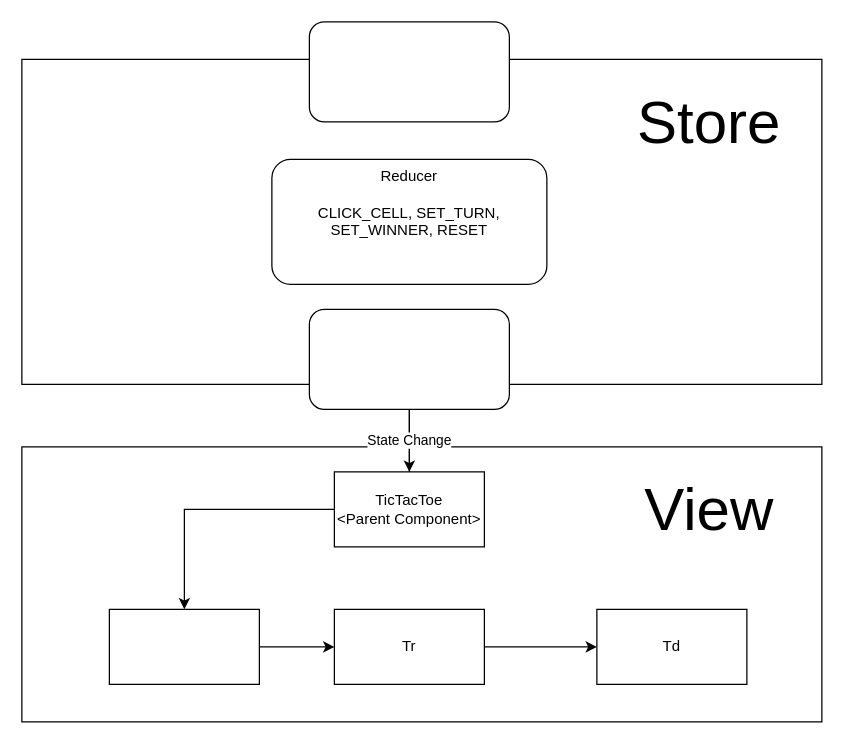
Image size: 844x744. Some labels were removed from this diagram. Each missing label, with the centre of its shape:
"dispatch" belongs at [408,71].
"State" belongs at [408,358].
"Table" belongs at [183,646].
